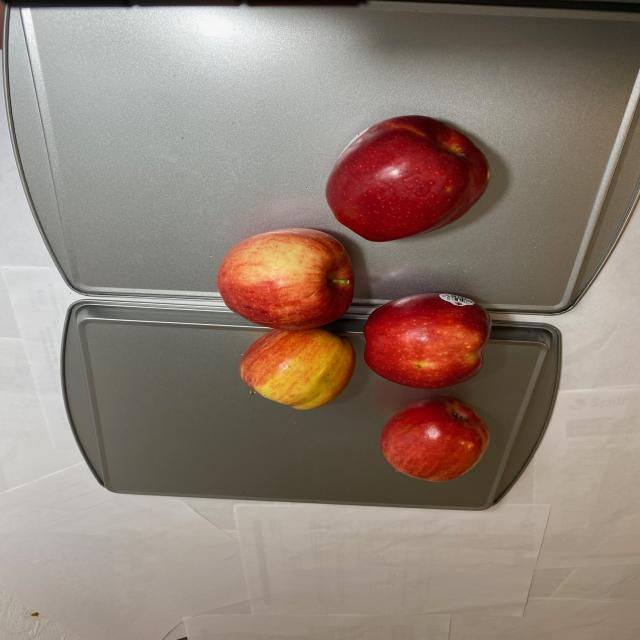apple: (213, 112, 497, 485)
